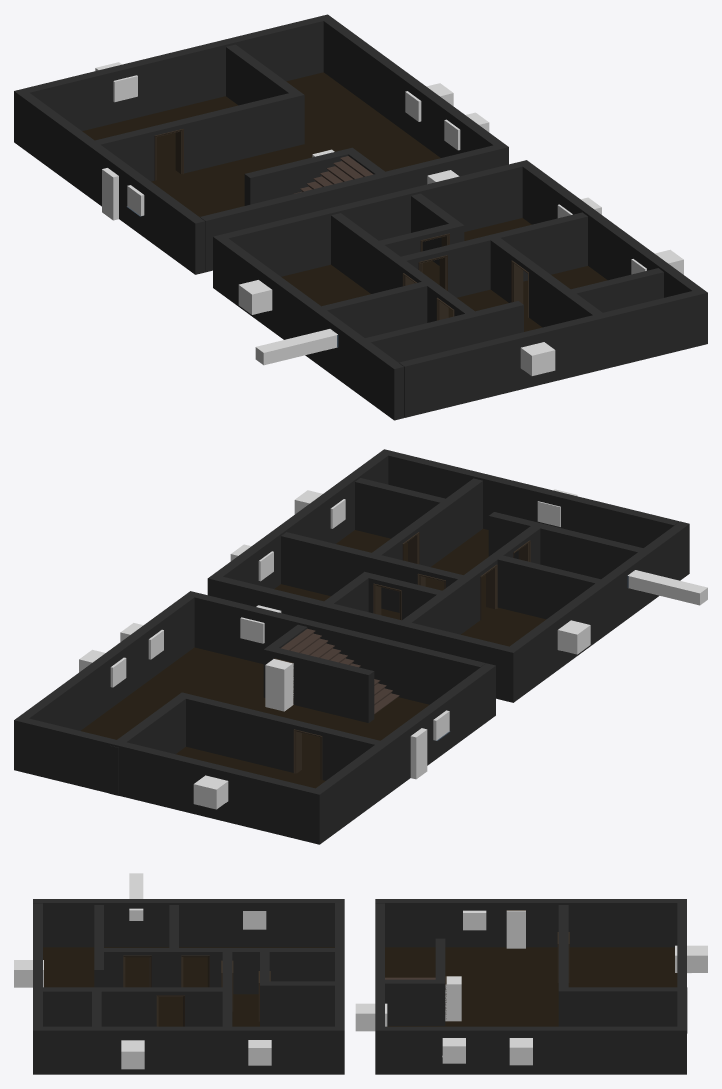
Rendered from finalroundHouseFINAL.fbx.
3 renders of one model, top to bottom at view 1: azimuth 30°, elevation 25°; view 2: azimuth 150°, elevation 25°; view 3: azimuth 270°, elevation 25°, orthographic. The views are drawn at different scales.
Visible parts, largest first — view 1: Second Floor, Ground Floor, Floor, Room.001, Room.002, Room.007, Floor.001, Room.004, Room.003, Room.008, Room, Room.005 (+8 smaller); view 2: Ground Floor, Second Floor, Floor, Room.001, Room.002, Room, Floor.001, Room.004, Room.003, Room.008, Room.007, Room.006 (+10 smaller); view 3: Second Floor, Ground Floor, Floor, Room.007, Room.003, Room.001, Floor.001, Room.005, Room, Room.004, Room.002, CTRL_Hole (+13 smaller).
Part boxes in pixels (left/top/right/bottom): Second Floor: left=213, top=160, right=707, bottom=420; Ground Floor: left=14, top=14, right=508, bottom=274; Floor: left=82, top=72, right=440, bottom=216; Room.001: left=95, top=44, right=304, bottom=181; Room.002: left=400, top=212, right=587, bottom=297; Room.007: left=331, top=213, right=477, bottom=322; Floor.001: left=281, top=218, right=607, bottom=331; Room.004: left=365, top=301, right=523, bottom=362; Room.003: left=486, top=236, right=602, bottom=327; Room.008: left=322, top=281, right=430, bottom=337; Room: left=244, top=147, right=384, bottom=205; Room.005: left=371, top=193, right=464, bottom=265; Ground Floor: left=14, top=591, right=495, bottom=844; Second Floor: left=207, top=449, right=689, bottom=702; Floor: left=81, top=647, right=429, bottom=788; Room.001: left=109, top=692, right=380, bottom=795; Room.002: left=281, top=532, right=464, bottom=612; Room: left=263, top=624, right=374, bottom=722; Floor.001: left=274, top=528, right=545, bottom=646; Room.004: left=488, top=512, right=643, bottom=579; Room.003: left=372, top=478, right=482, bottom=566; Room.008: left=495, top=555, right=600, bottom=619; Room.007: left=402, top=526, right=540, bottom=634; Room.006: left=355, top=478, right=449, bottom=542; Second Floor: left=33, top=899, right=344, bottom=1074; Ground Floor: left=375, top=899, right=686, bottom=1074; Floor: left=385, top=947, right=677, bottom=1026; Room.007: left=104, top=948, right=334, bottom=994; Room.003: left=43, top=987, right=231, bottom=1026; Room.001: left=558, top=905, right=687, bottom=1033; Floor.001: left=43, top=947, right=334, bottom=1026; Room.005: left=260, top=948, right=334, bottom=1026; Room: left=385, top=938, right=445, bottom=1025; Room.004: left=94, top=905, right=103, bottom=987; Room.002: left=222, top=951, right=232, bottom=1026; CTRL_Hole: left=506, top=910, right=525, bottom=948.
Size of the model in its own units: 2119 by 274 by 3563.
